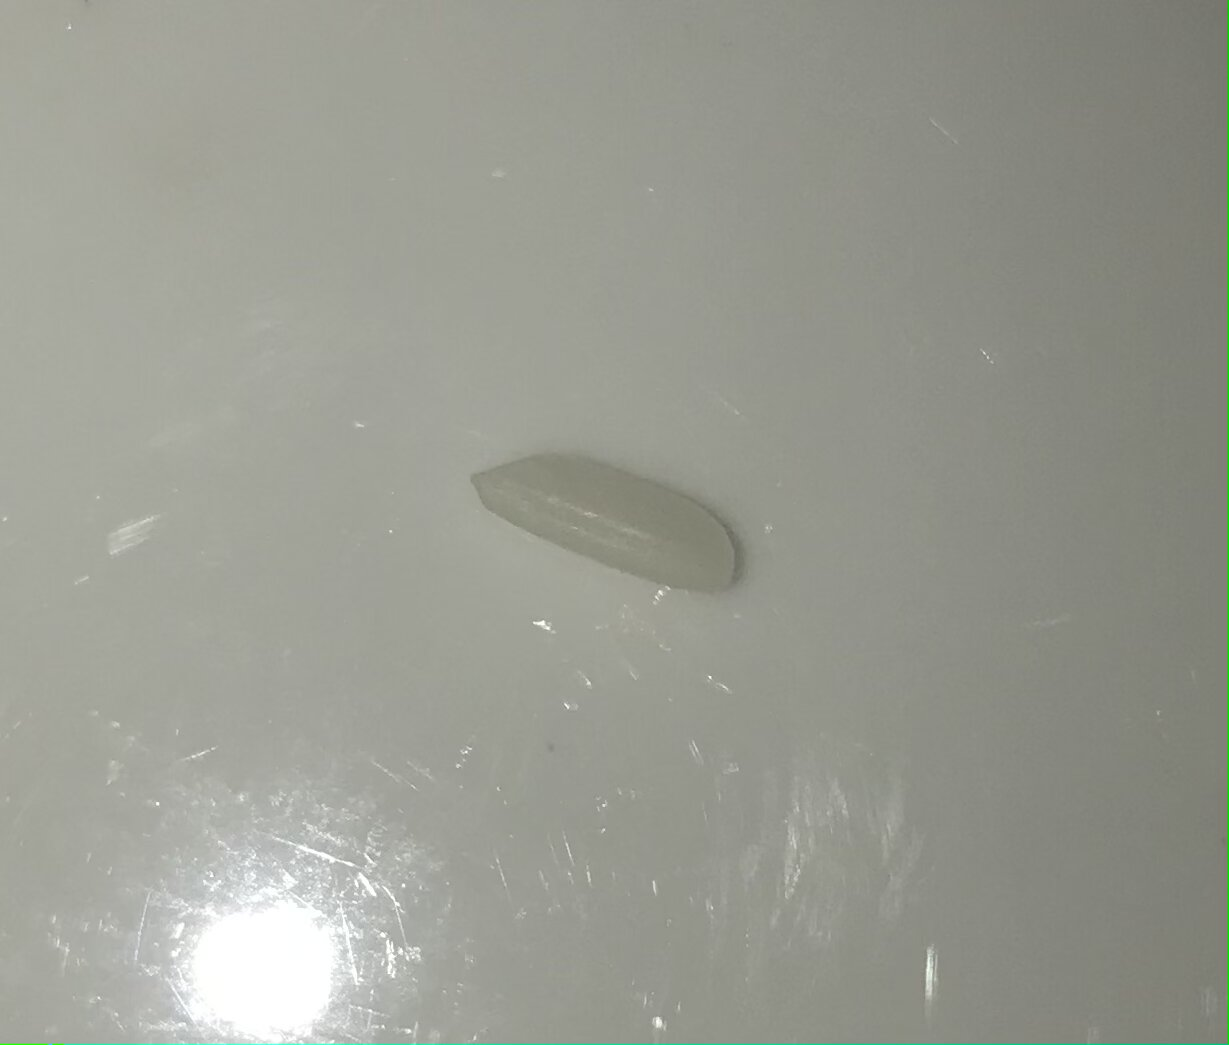Gao Lai Sua: (467, 449, 744, 601)
